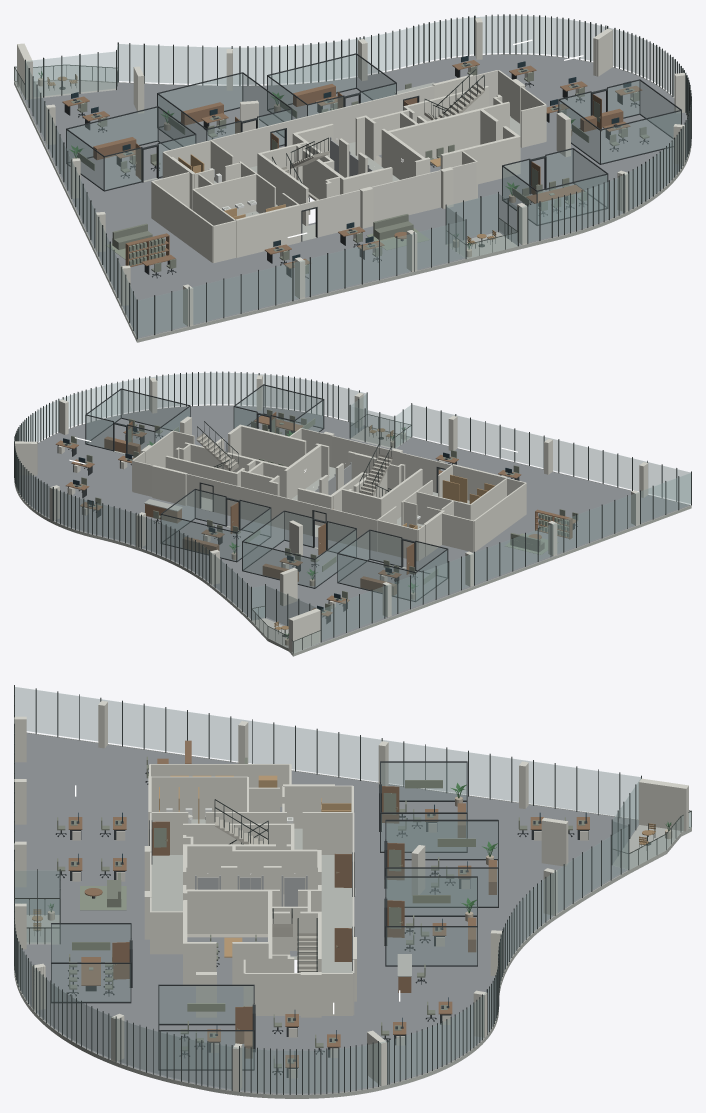
File: office-floor-07-r3.glb
The picture shows the model from 3 angles, top to bottom: view 1: azimuth 30°, elevation 25°; view 2: azimuth 150°, elevation 25°; view 3: azimuth 270°, elevation 25°; orthographic projection. The views are drawn at different scales.
Parts seen in each view (by area): view 1: SOURCE FLOOR | registered floor slab, SOURCE TRACED PARTITION | corrected R3 tenant south.001, SOURCE WALL | 42, R3 PROPOSED PARTITION | executive-east.002, SOURCE WALL | 55, SOURCE TRACED PARTITION | service corridor.015, R3 PROPOSED PARTITION | suite-north-west.002, SOURCE TRACED PARTITION | corrected R3 tenant north.001, R3 PROPOSED PARTITION | suite-north-east.002, SOURCE WALL | 44.001, R3 PROPOSED PARTITION | suite-north-central.002, R3 PROPOSED PARTITION | boardroom-south.002 (+81 smaller); view 2: SOURCE FLOOR | registered floor slab, SOURCE TRACED PARTITION | corrected R3 tenant north.001, SOURCE TRACED PARTITION | corrected R3 tenant south.001, R3 PROPOSED PARTITION | suite-north-west.002, SOURCE WALL | 44.001, R3 PROPOSED PARTITION | suite-north-central.002, R3 PROPOSED PARTITION | suite-north-east.002, SOURCE TRACED PARTITION | service corridor.015, R3 PROPOSED PARTITION | executive-east.002, SOURCE TRACED PARTITION | corrected R3 tenant north, SOURCE FLOOR | slab edge, R3 PROPOSED PARTITION | boardroom-south.002 (+48 smaller); view 3: SOURCE FLOOR | registered floor slab, SOURCE CORRIDOR | circulation finish, SOURCE TRACED PARTITION | service corridor.021, SOURCE WALL | 41, R3 PROPOSED PARTITION | suite-north-central.001, SOURCE TRACED PARTITION | service corridor.010, R3 PROPOSED PARTITION | suite-north-central, R3 PROPOSED PARTITION | suite-north-east.001, R3 PROPOSED PARTITION | executive-east, R3 PROPOSED PARTITION | boardroom-south.001, R3 PROPOSED PARTITION | suite-north-east, R3 PROPOSED PARTITION | suite-north-west.001 (+53 smaller).
Part boxes in pixels (<box>): SOURCE FLOOR | registered floor slab: <box>17,54,687,338</box>; SOURCE TRACED PARTITION | corrected R3 tenant south.001: <box>317,161,476,237</box>; SOURCE WALL | 42: <box>388,108,483,158</box>; R3 PROPOSED PARTITION | executive-east.002: <box>601,111,680,163</box>; SOURCE WALL | 55: <box>235,204,300,257</box>; SOURCE TRACED PARTITION | service corridor.015: <box>151,181,213,262</box>; R3 PROPOSED PARTITION | suite-north-west.002: <box>67,108,157,158</box>; SOURCE TRACED PARTITION | corrected R3 tenant north.001: <box>286,93,402,146</box>; R3 PROPOSED PARTITION | suite-north-east.002: <box>268,55,355,103</box>; SOURCE WALL | 44.001: <box>440,135,520,184</box>; R3 PROPOSED PARTITION | suite-north-central.002: <box>158,74,242,121</box>; R3 PROPOSED PARTITION | boardroom-south.002: <box>538,175,607,223</box>; SOURCE FLOOR | registered floor slab: <box>19,405,690,648</box>; SOURCE TRACED PARTITION | corrected R3 tenant north.001: <box>213,480,312,535</box>; SOURCE TRACED PARTITION | corrected R3 tenant south.001: <box>301,428,436,492</box>; R3 PROPOSED PARTITION | suite-north-west.002: <box>338,554,414,600</box>; SOURCE WALL | 44.001: <box>239,424,306,466</box>; R3 PROPOSED PARTITION | suite-north-central.002: <box>243,542,314,587</box>; R3 PROPOSED PARTITION | suite-north-east.002: <box>161,515,235,560</box>; SOURCE TRACED PARTITION | service corridor.015: <box>474,483,526,551</box>; R3 PROPOSED PARTITION | executive-east.002: <box>121,390,189,431</box>; SOURCE TRACED PARTITION | corrected R3 tenant north: <box>326,508,377,551</box>; SOURCE FLOOR | slab edge: <box>293,505,691,656</box>; R3 PROPOSED PARTITION | boardroom-south.002: <box>264,385,322,427</box>; SOURCE FLOOR | registered floor slab: <box>15,733,638,1094</box>; SOURCE CORRIDOR | circulation finish: <box>151,855,352,972</box>; SOURCE TRACED PARTITION | service corridor.021: <box>244,973,352,1015</box>; SOURCE WALL | 41: <box>183,889,272,933</box>; R3 PROPOSED PARTITION | suite-north-central.001: <box>386,869,497,906</box>; SOURCE TRACED PARTITION | service corridor.010: <box>151,776,247,819</box>; R3 PROPOSED PARTITION | suite-north-central: <box>386,821,497,858</box>; R3 PROPOSED PARTITION | suite-north-east.001: <box>386,927,476,964</box>; R3 PROPOSED PARTITION | executive-east: <box>159,986,253,1023</box>; R3 PROPOSED PARTITION | boardroom-south.001: <box>52,964,130,1001</box>; R3 PROPOSED PARTITION | suite-north-east: <box>386,878,476,915</box>; R3 PROPOSED PARTITION | suite-north-west.001: <box>381,814,466,851</box>.
Size of the model in its own units: 49.76 by 5.32 by 39.12.
